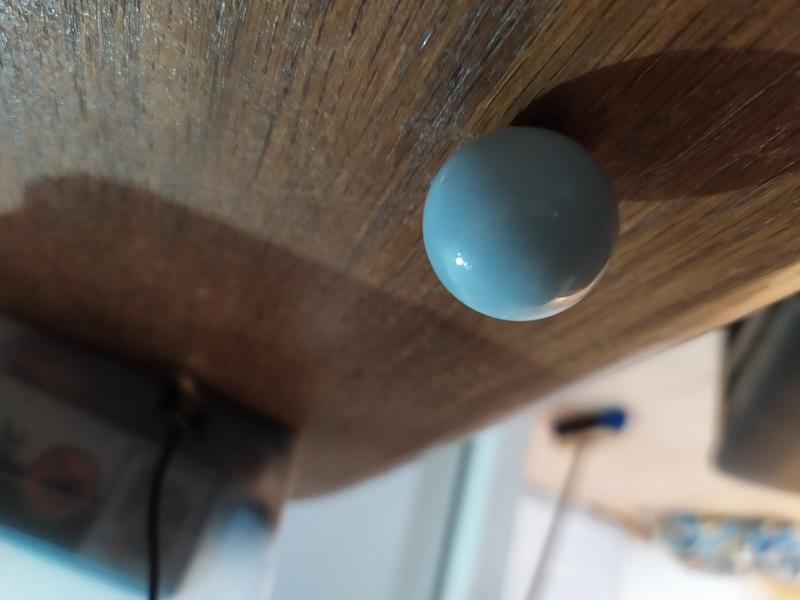Warning: (419, 122, 625, 326)
